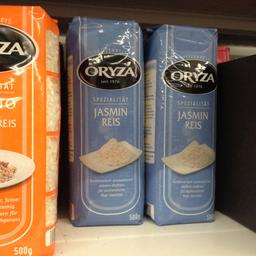rice: (64, 15, 144, 225), (140, 22, 218, 225), (0, 2, 58, 255)
